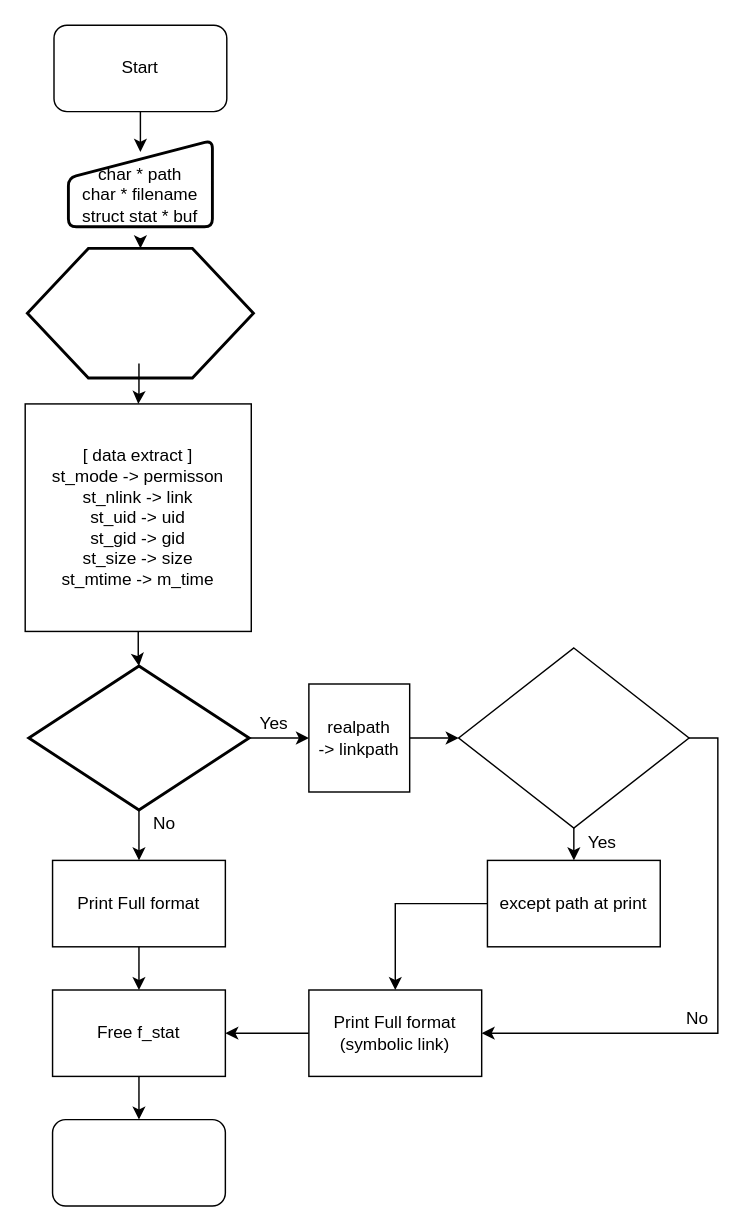
Some shapes in this 755 by 1231 pixel diagram are drawn without their labels. The centre of each missing label's shape, as x and y in pixels:
"End" belongs at point 138,1162.
"is symbollic link ?" belongs at point 138,737.
"original file and link file in same folder ?" belongs at point 573,737.
"struct file_format f_stat char * p_path;" belongs at point 139,312.
